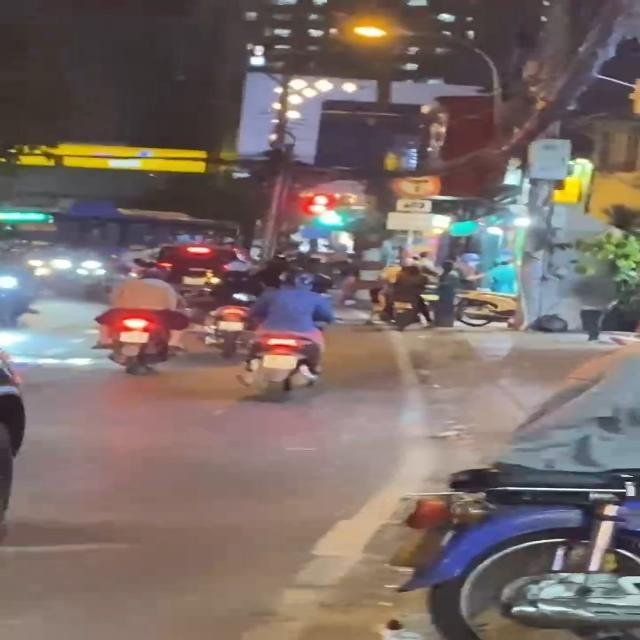137-cam-re-trai-va-re-phai: (391, 170, 441, 198)
